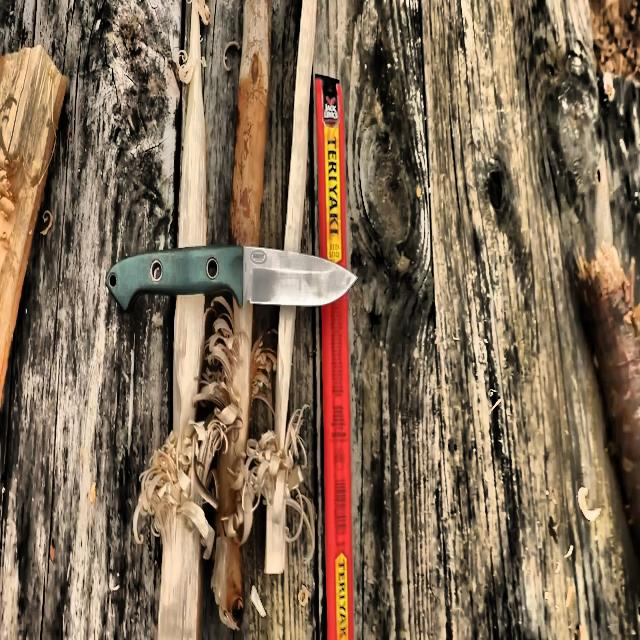knife: (108, 246, 358, 304)
